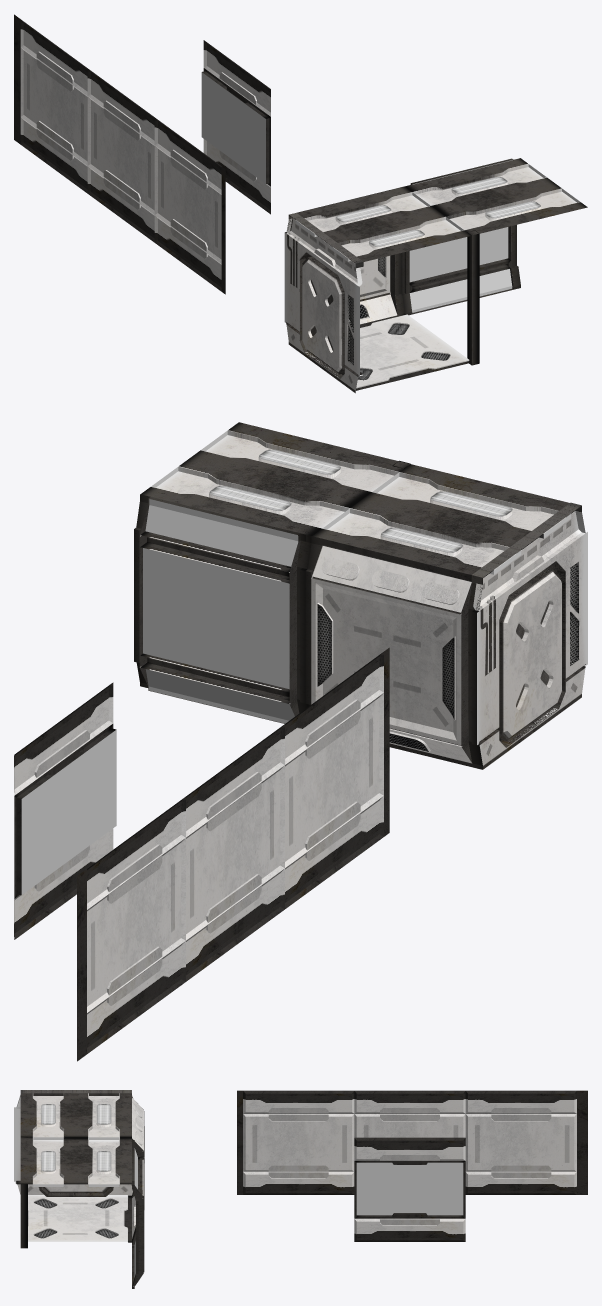
The picture shows the model from 3 angles, top to bottom: view 1: azimuth 30°, elevation 25°; view 2: azimuth 150°, elevation 25°; view 3: azimuth 270°, elevation 25°; orthographic projection. The views are drawn at different scales.
Parts seen in each view (by area): view 1: wall_flat_right_2, wall_flat_left_1, wall_flat_mid_0, window_flat_9, roof.001_10, roof_3, window_6, door_frame_4, floor_7, door_5, wall_8, corner_fill_11; view 2: window_6, wall_8, wall_flat_right_2, wall_flat_left_1, wall_flat_mid_0, window_flat_9, roof.001_10, roof_3, door_frame_4, door_5; view 3: wall_flat_right_2, wall_flat_left_1, window_flat_9, roof.001_10, wall_flat_mid_0, roof_3, floor_7, door_frame_4, window_6, wall_8, corner_fill_11, door_5.
Part boxes in pixels (<box>): wall_flat_right_2: <box>14,14,87,193</box>; wall_flat_left_1: <box>154,117,225,294</box>; wall_flat_mid_0: <box>87,68,154,242</box>; window_flat_9: <box>201,40,270,214</box>; roof.001_10: <box>405,158,587,235</box>; roof_3: <box>289,186,471,263</box>; window_6: <box>401,158,520,315</box>; door_frame_4: <box>284,213,363,393</box>; floor_7: <box>305,313,471,390</box>; door_5: <box>302,258,342,373</box>; wall_8: <box>285,186,404,324</box>; corner_fill_11: <box>467,230,479,365</box>; window_6: <box>134,494,311,723</box>; wall_8: <box>305,536,482,769</box>; wall_flat_right_2: <box>77,796,185,1061</box>; wall_flat_left_1: <box>285,647,389,908</box>; wall_flat_mid_0: <box>186,724,284,981</box>; window_flat_9: <box>14,682,116,939</box>; roof.001_10: <box>141,422,409,535</box>; roof_3: <box>312,464,581,577</box>; door_frame_4: <box>471,502,587,769</box>; door_5: <box>502,569,561,740</box>; wall_flat_right_2: <box>465,1090,587,1194</box>; wall_flat_left_1: <box>237,1090,354,1194</box>; window_flat_9: <box>354,1137,465,1241</box>; roof.001_10: <box>20,1137,131,1186</box>; wall_flat_mid_0: <box>354,1090,465,1137</box>; roof_3: <box>20,1093,131,1139</box>; floor_7: <box>28,1195,131,1242</box>; door_frame_4: <box>14,1090,132,1196</box>; window_6: <box>131,1140,144,1288</box>; wall_8: <box>132,1097,144,1241</box>; corner_fill_11: <box>20,1137,27,1248</box>; door_5: <box>43,1184,109,1192</box>.
Bounding box in the file's own units: 6.04 × 3.22 × 15.48.
6 materials, 5 textured.
